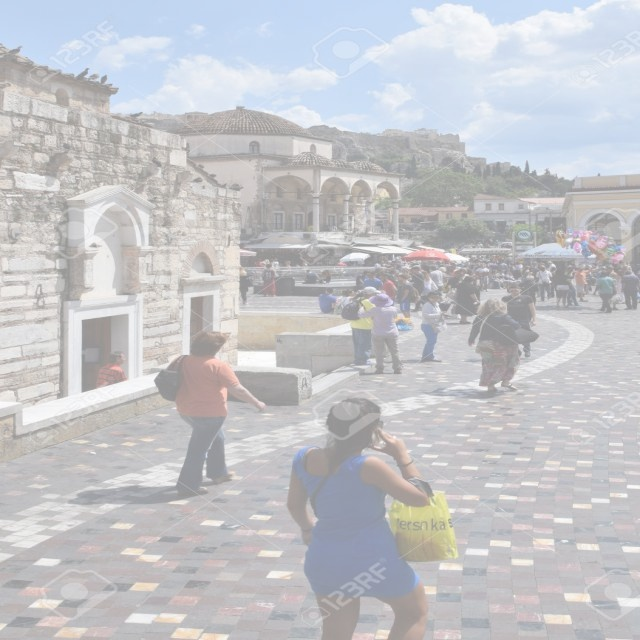pessoa: (278, 392, 467, 640), (150, 329, 278, 501), (466, 296, 541, 394), (353, 292, 405, 376), (341, 286, 384, 366), (500, 284, 538, 358), (418, 289, 449, 364), (446, 236, 522, 262), (392, 273, 422, 323), (454, 274, 482, 325), (94, 350, 128, 390), (590, 270, 618, 316), (550, 268, 578, 309), (446, 270, 468, 320), (572, 264, 596, 304), (563, 266, 584, 308), (618, 270, 640, 310), (409, 264, 426, 313), (534, 264, 554, 303), (518, 275, 540, 307), (378, 272, 398, 306), (262, 262, 280, 297), (366, 257, 408, 272), (317, 287, 339, 315), (432, 256, 476, 270), (428, 264, 445, 298), (256, 258, 310, 268), (608, 272, 621, 312), (474, 262, 491, 292), (590, 261, 640, 271), (238, 266, 250, 306), (421, 270, 438, 296), (361, 270, 383, 290), (580, 266, 594, 296), (336, 288, 356, 308), (329, 260, 348, 279), (494, 268, 510, 290), (549, 266, 559, 299), (302, 268, 321, 284), (340, 289, 356, 307), (490, 270, 504, 290), (305, 224, 339, 232), (522, 257, 546, 265), (321, 268, 332, 284), (503, 269, 516, 282), (488, 260, 499, 274), (530, 268, 542, 280), (520, 265, 531, 278), (498, 258, 508, 272), (410, 227, 441, 231), (514, 260, 524, 272), (546, 260, 556, 272), (521, 266, 531, 276), (509, 264, 516, 278)
